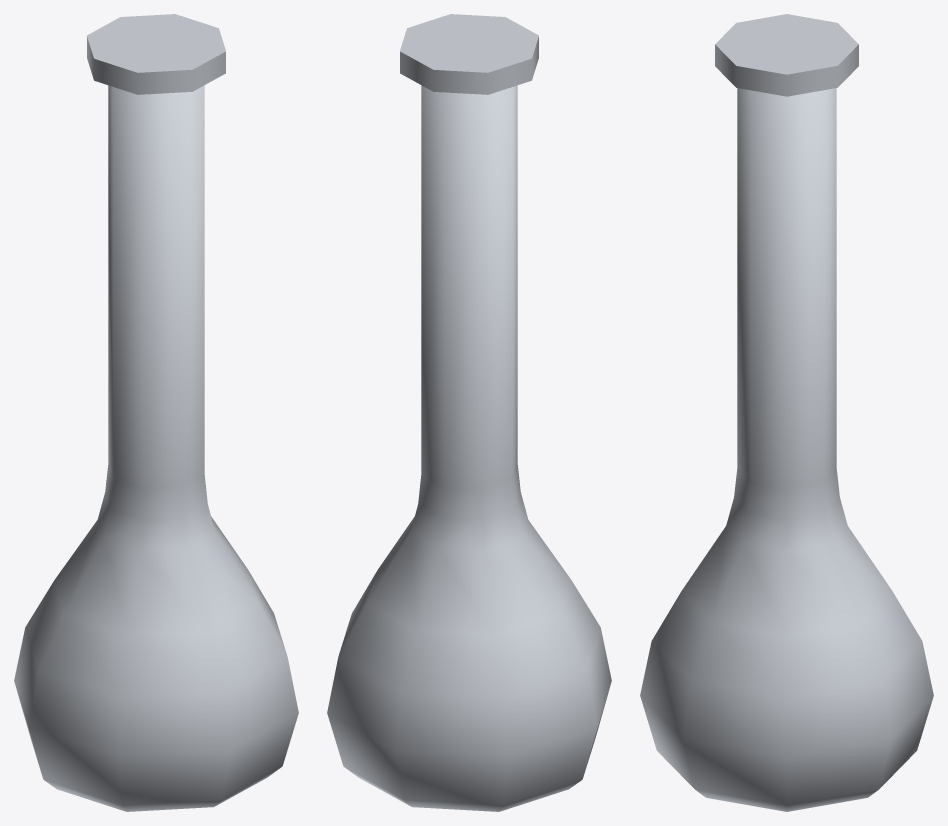
The model's file is bottle_glassware_volumetric_flask_medium.glb.
The picture shows the model from 3 angles, left to right: view 1: azimuth 30°, elevation 25°; view 2: azimuth 150°, elevation 25°; view 3: azimuth 270°, elevation 25°; orthographic projection.
Parts seen in each view (by area): view 1: bottle_glassware_volumetric_flask_medium, bottle_glassware_volumetric_flask_medium_cap; view 2: bottle_glassware_volumetric_flask_medium, bottle_glassware_volumetric_flask_medium_cap; view 3: bottle_glassware_volumetric_flask_medium, bottle_glassware_volumetric_flask_medium_cap.
Part boxes in pixels (x1,y1,x2,y2): bottle_glassware_volumetric_flask_medium: (14, 85, 298, 811); bottle_glassware_volumetric_flask_medium_cap: (87, 14, 225, 94); bottle_glassware_volumetric_flask_medium: (327, 85, 611, 811); bottle_glassware_volumetric_flask_medium_cap: (400, 14, 538, 94); bottle_glassware_volumetric_flask_medium: (640, 88, 933, 811); bottle_glassware_volumetric_flask_medium_cap: (715, 14, 858, 96).
Bounding box in the file's own units: 11.86 × 32.32 × 11.86.
Materials: 1 (1 with a texture image).
